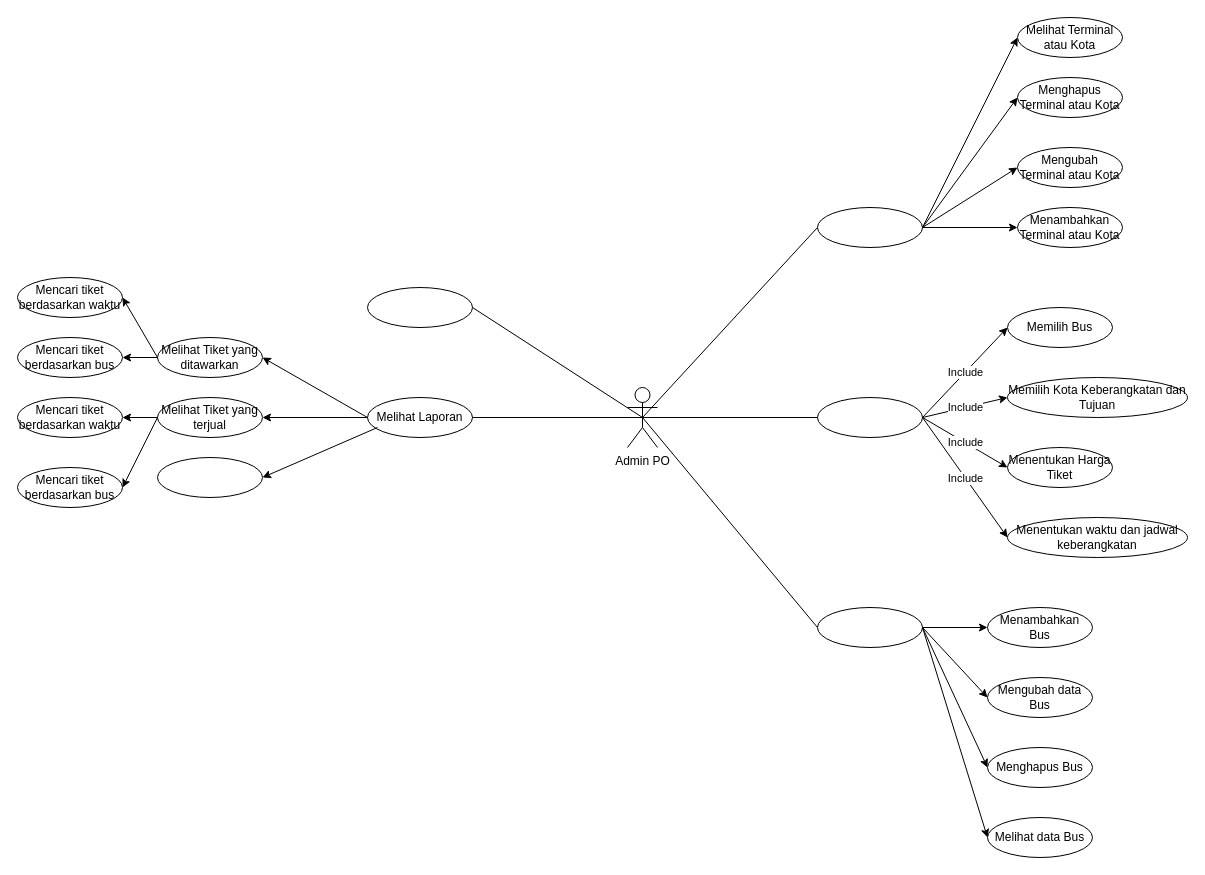
The diagram is 1205 pixels wide and 875 high, and some of its shapes have lost their labels. Here are the shapes that lost their labels. From the top down, the centre of each, then its label:
[869,227]: Mengontrol Rute
[419,307]: Mengubah informasi PO
[869,417]: Membuat Tiket
[209,477]: Melihat Transaksi
[869,627]: Mengontrol Bus
